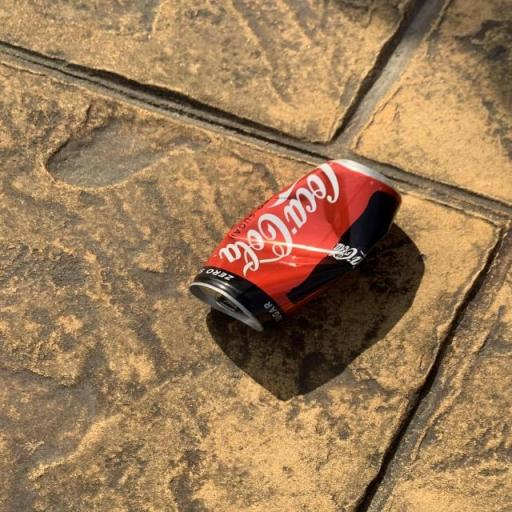metal: (166, 144, 424, 341)
